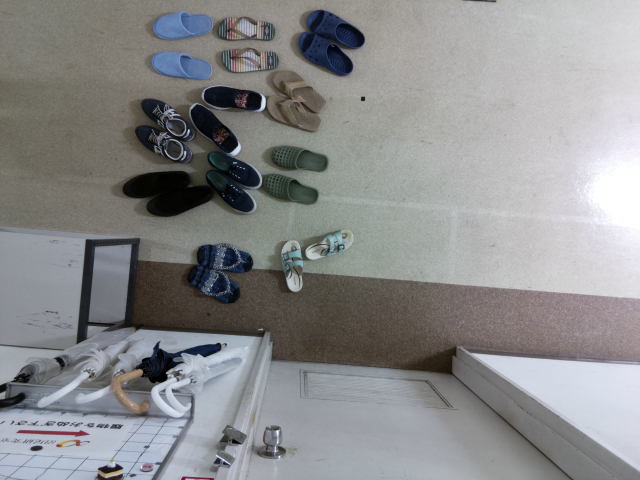Copy of Copy of Copy of Copy of Copy of Copy of Copy of sandal: (305, 229, 353, 261)
Copy of Copy of Copy of Copy of Copy of Copy of Copy of shoes: (146, 185, 212, 217)
Copy of Copy of Copy of Copy of Copy of Copy of sandal: (280, 240, 303, 292)
Copy of Copy of Copy of Copy of Copy of Copy of shoes: (122, 170, 190, 198)
Copy of Copy of Copy of Copy of Copy of sandal: (187, 265, 240, 303)
Copy of Copy of Copy of Copy of Copy of shoes: (206, 169, 256, 213)
Copy of Copy of Copy of Copy of Copy of slipper: (296, 31, 353, 75)
Copy of Copy of Copy of Copy of sandal: (196, 243, 253, 271)
Copy of Copy of Copy of Copy of shoes: (206, 151, 262, 189)
Copy of Copy of Copy of Copy of slipper: (305, 10, 365, 49)
Copy of Copy of Copy of sandal: (265, 93, 320, 132)
Copy of Copy of Copy of shoes: (189, 102, 241, 156)
Copy of Copy of Copy of slipper: (261, 173, 318, 204)
Copy of Copy of sandal: (271, 71, 326, 112)
Copy of Copy of shoes: (202, 84, 265, 111)
Copy of Copy of slipper: (271, 146, 329, 172)
Copy of sandal: (221, 46, 279, 73)
Copy of shoes: (135, 125, 193, 163)
Copy of slipper: (151, 52, 212, 79)
sandal: (217, 15, 275, 40)
shoes: (140, 98, 195, 141)
slipper: (153, 12, 213, 40)
